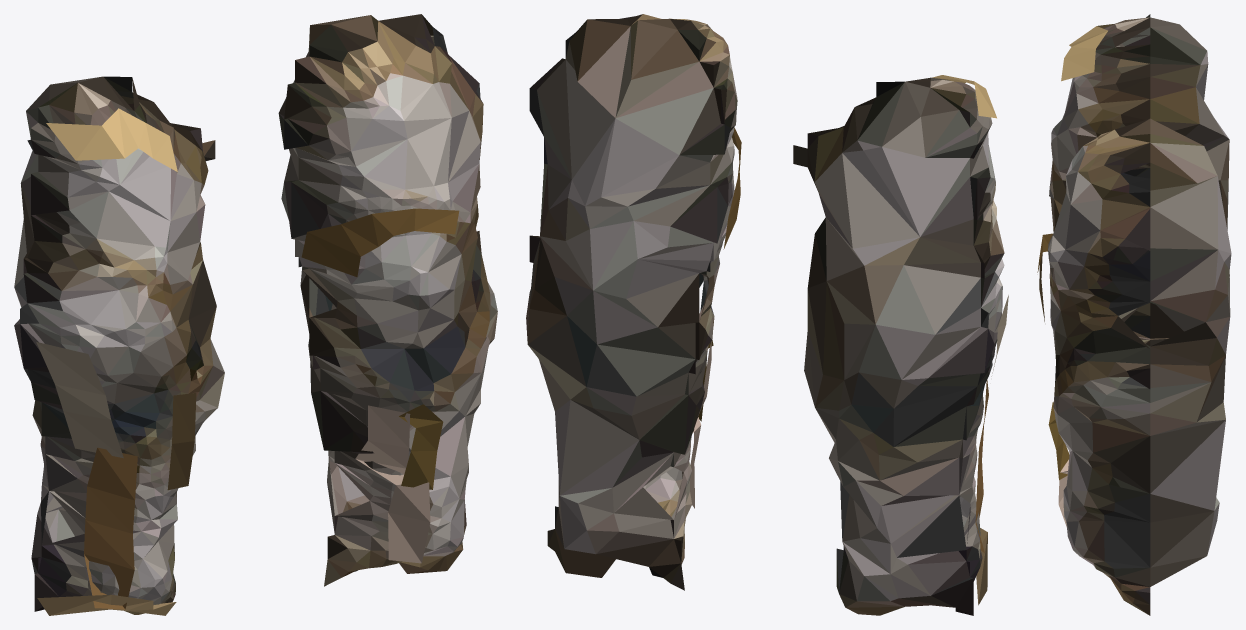
The picture shows the model from 3 angles, left to right: view 1: azimuth 30°, elevation 25°; view 2: azimuth 150°, elevation 25°; view 3: azimuth 270°, elevation 25°; orthographic projection. The views are drawn at different scales.
Parts seen in each view (by area): view 1: object 2, detail; view 2: object 2, detail; view 3: object 2, detail.
Part boxes in pixels (<box>): object 2: <box>14,14,497,614</box>; detail: <box>36,108,459,615</box>; object 2: <box>526,14,1004,615</box>; detail: <box>690,75,1008,605</box>; object 2: <box>1048,14,1231,615</box>; detail: <box>1037,24,1113,527</box>.
Size of the model in its own units: 128 by 152 by 58.49.
